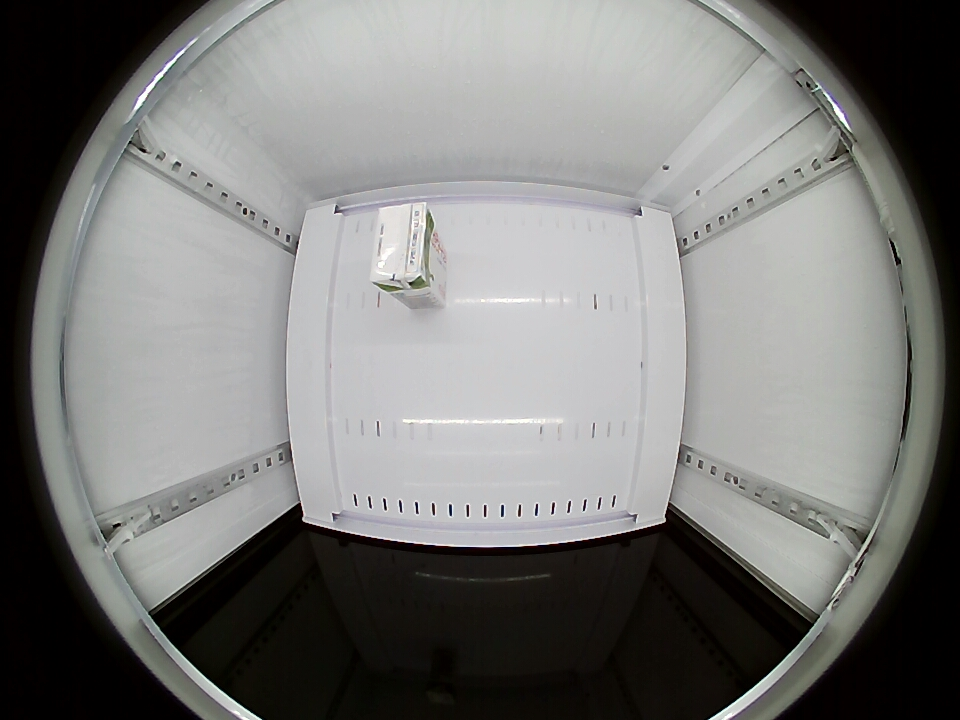mengniu: (370, 202, 440, 299)
